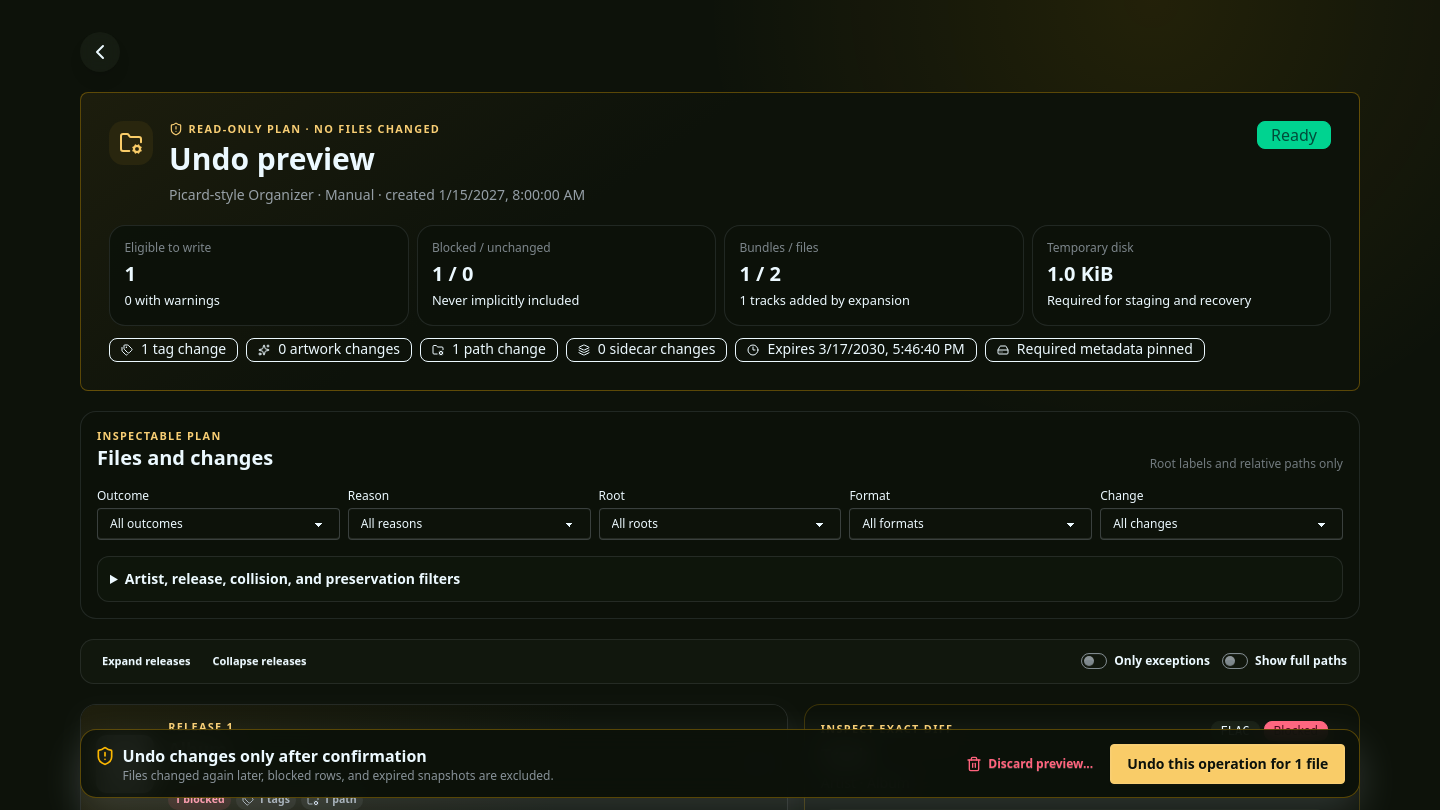
Test: LibraryManagementPreviewPage › uses consequence-specific confirmation copy for undo
This screenshot has width=1440, height=810.
Click the button "Undo this operation for 1 file" at (1228, 763), box [1110,743,1346,783]
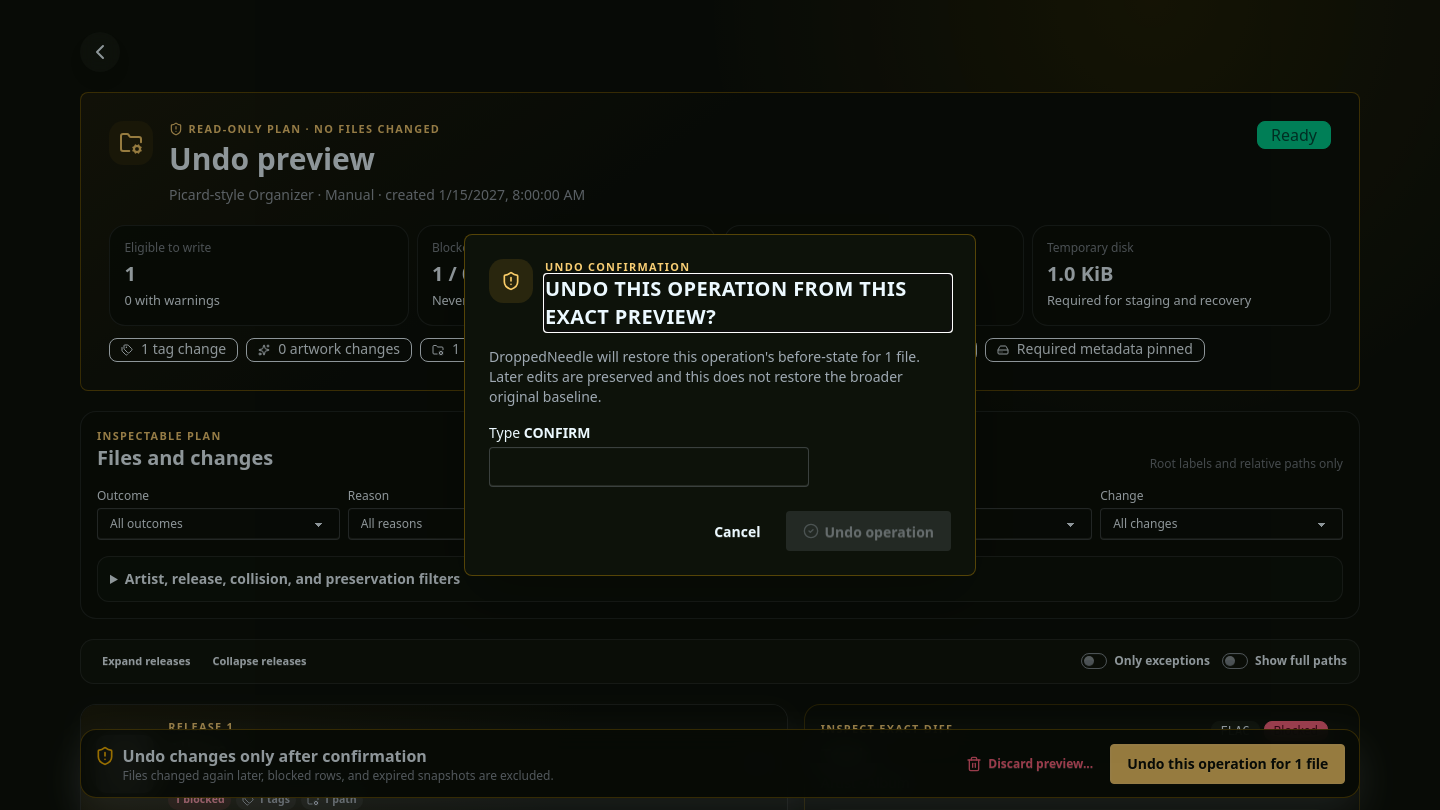
Now the text "does not restore the broader original baseline" is shown, box [489,347,920,406]
Now the field labelled "Type CONFIRM" is shown, box [489,447,809,487]
Now the button "Undo operation" is disabled, box [786,511,951,551]
